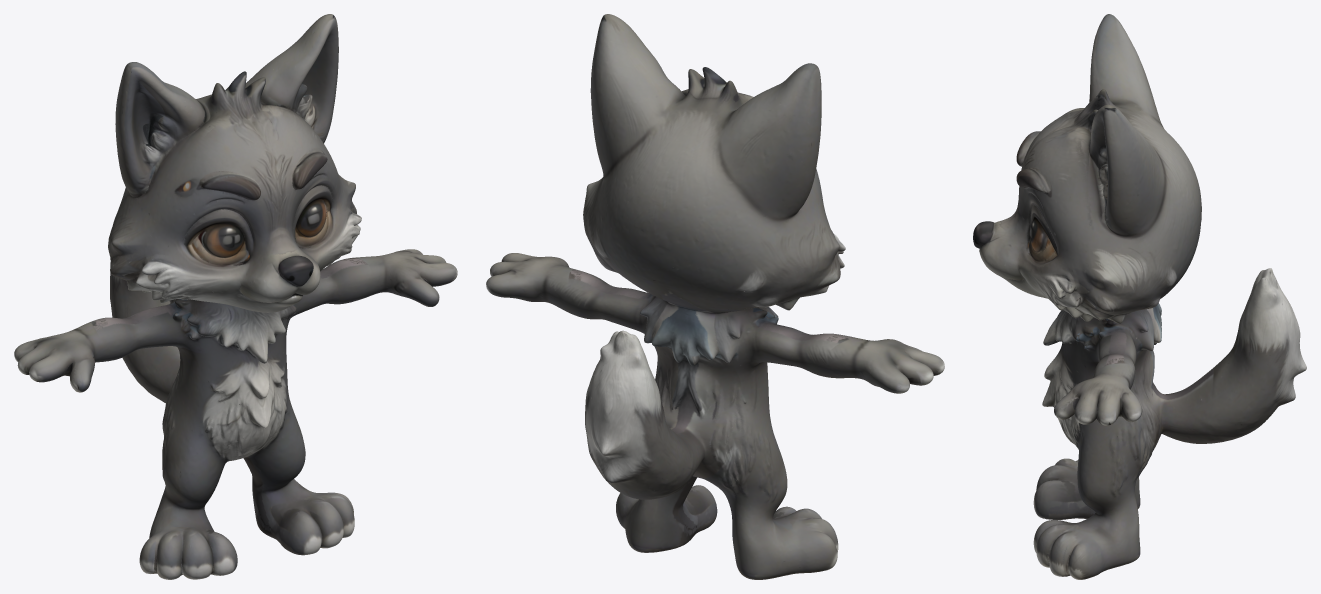
Rendered from Wolfie_Playtime_1012195126_texture.fbx.
3 renders of one model, left to right at view 1: azimuth 30°, elevation 25°; view 2: azimuth 150°, elevation 25°; view 3: azimuth 270°, elevation 25°, orthographic. The views are drawn at different scales.
Visible parts, largest first — view 1: Mesh_0.001; view 2: Mesh_0.001; view 3: Mesh_0.001.
Boxes of the visible parts, left/top/right/bottom form: Mesh_0.001: left=14, top=14, right=457, bottom=579; Mesh_0.001: left=486, top=14, right=944, bottom=579; Mesh_0.001: left=973, top=14, right=1306, bottom=579.
Size of the model in its own units: 170 by 190 by 122.
1 material, 1 textured.
